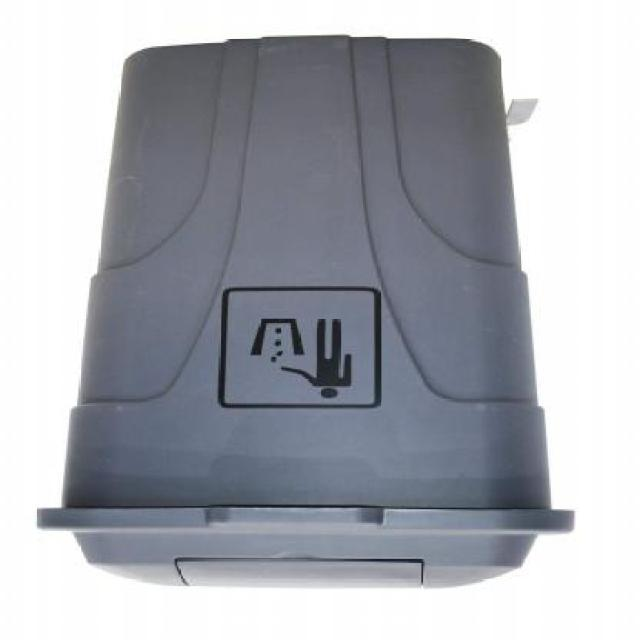garbage container: (29, 26, 589, 603)
